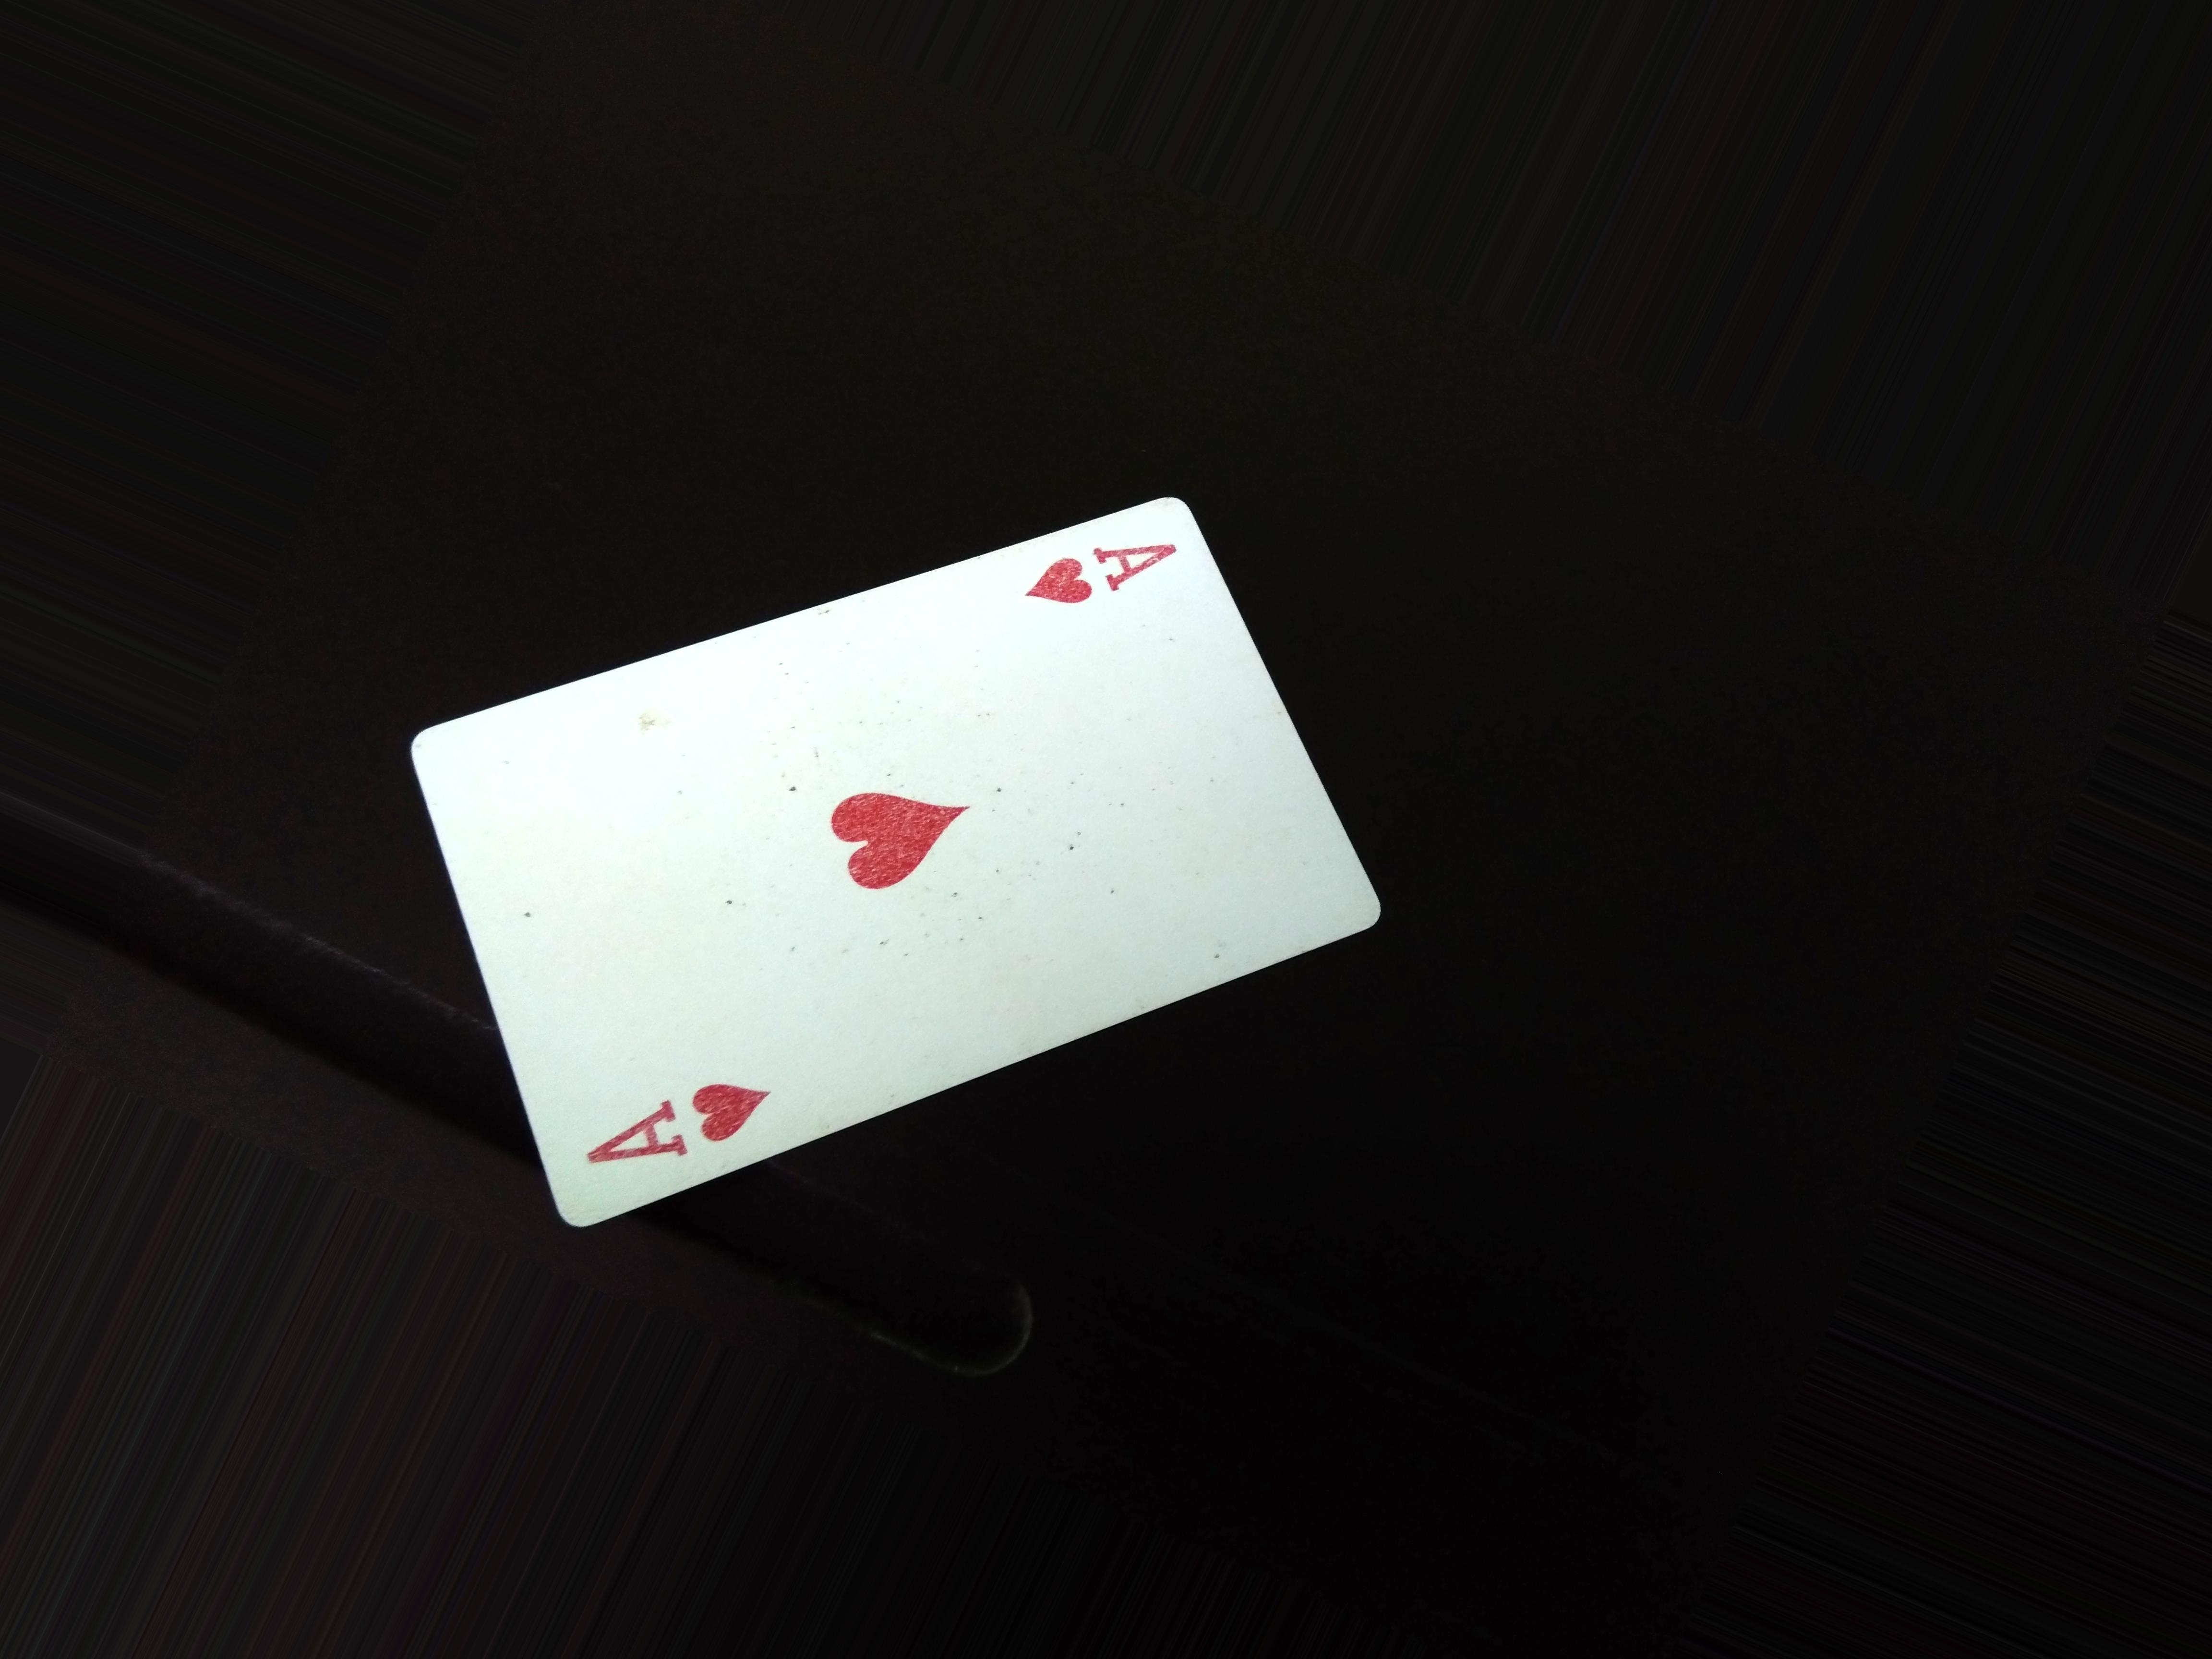AH: (554, 1070, 789, 1180)
